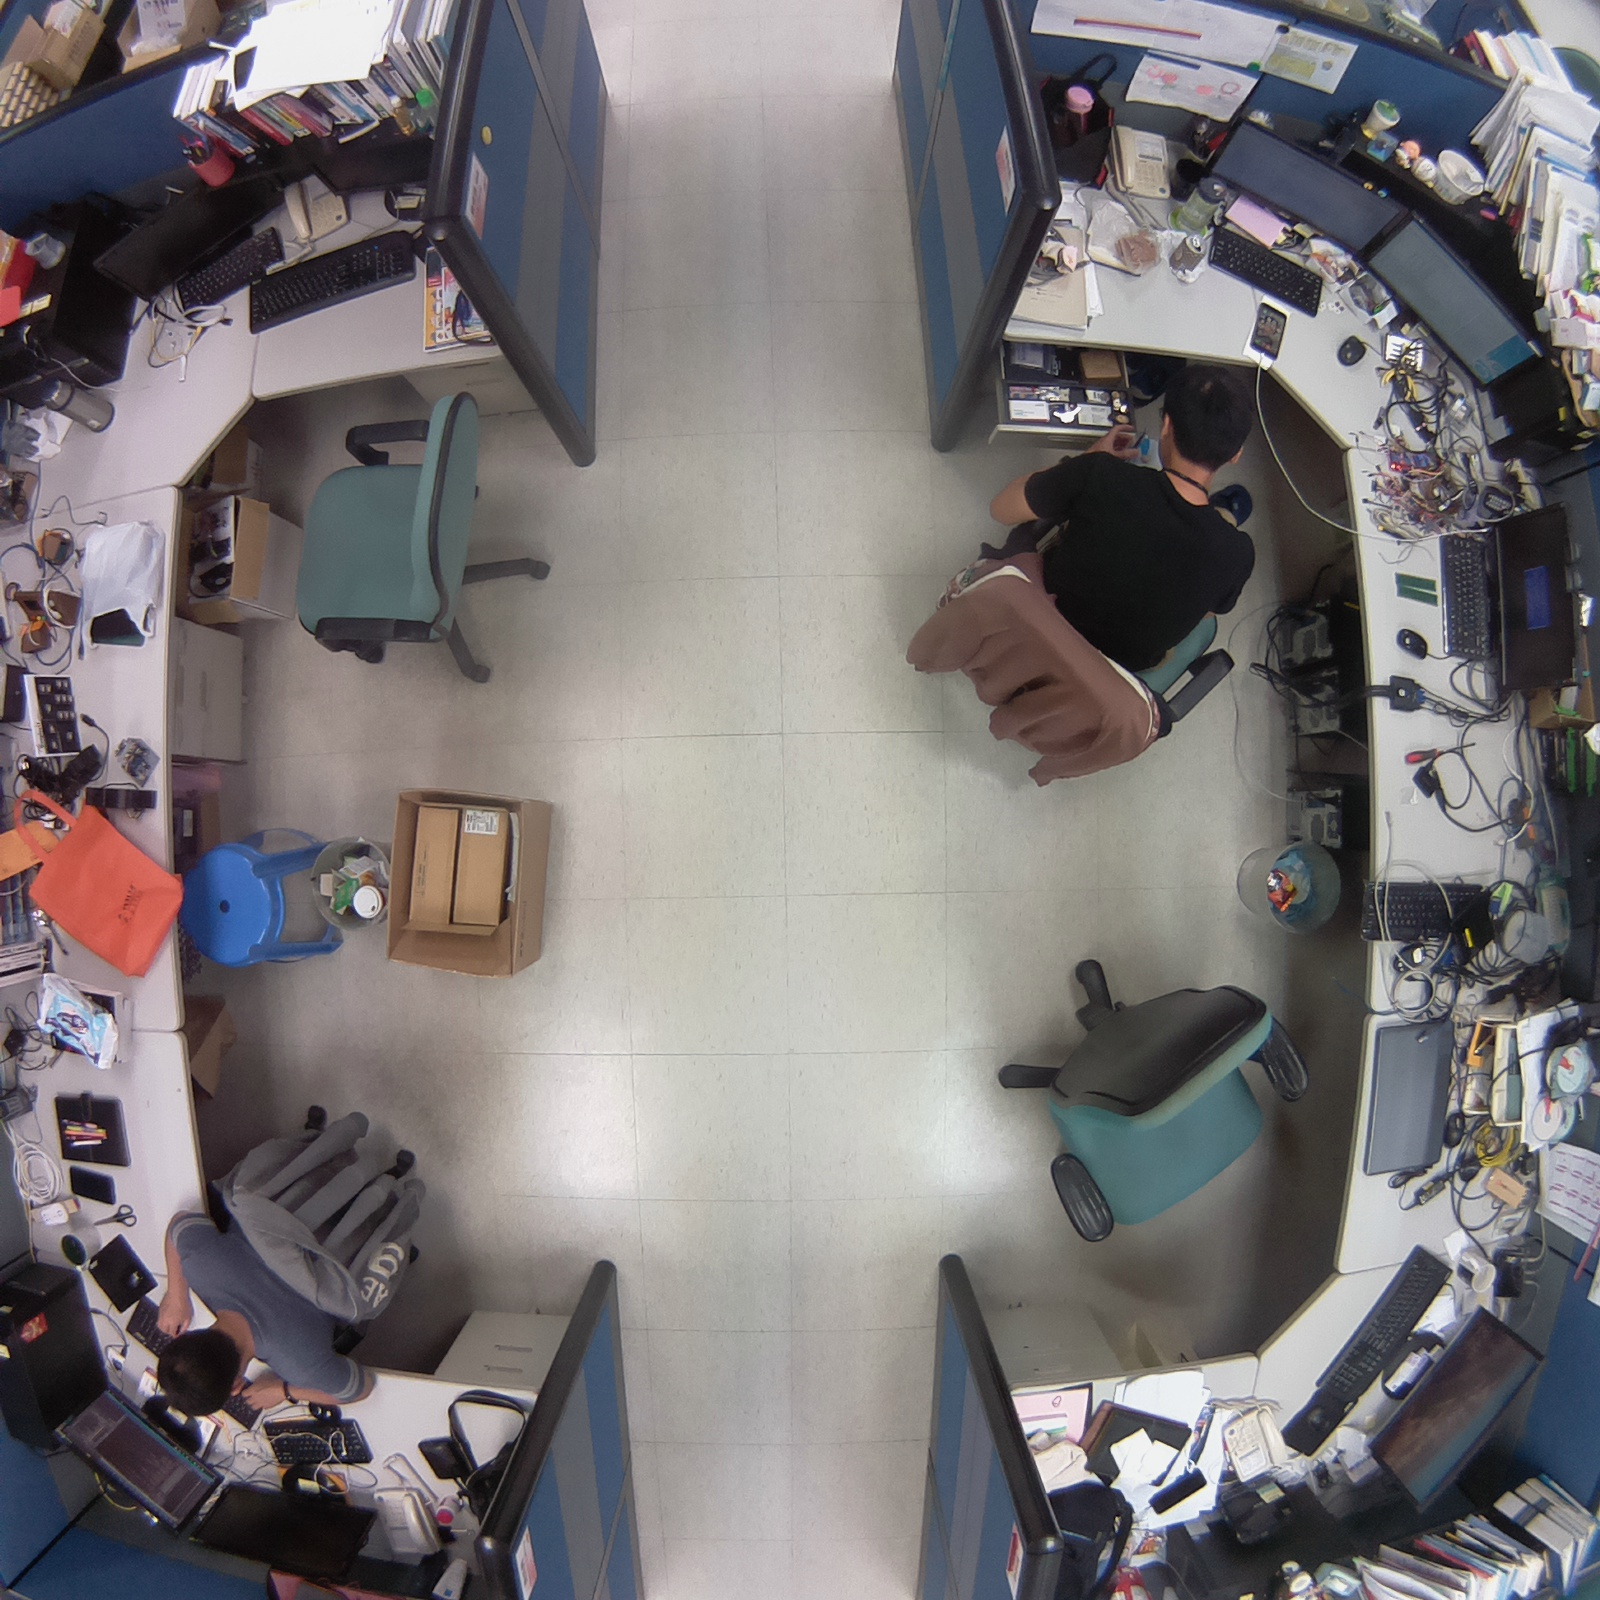chair: (973, 929, 1319, 1260), (278, 375, 563, 699)
head: (1152, 361, 1260, 476), (148, 1318, 252, 1416)
sitting: (891, 363, 1267, 801), (118, 1086, 453, 1429)
